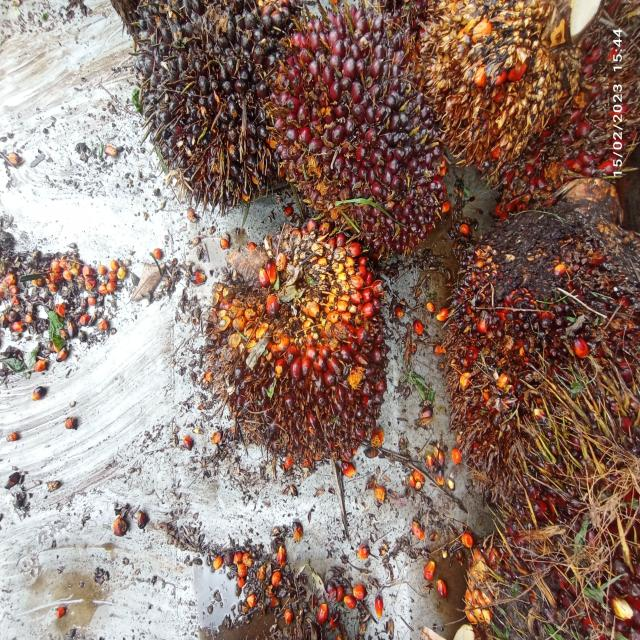fraksi 00: (142, 0, 280, 216)
fraksi 1: (153, 182, 422, 492), (260, 0, 472, 290)
